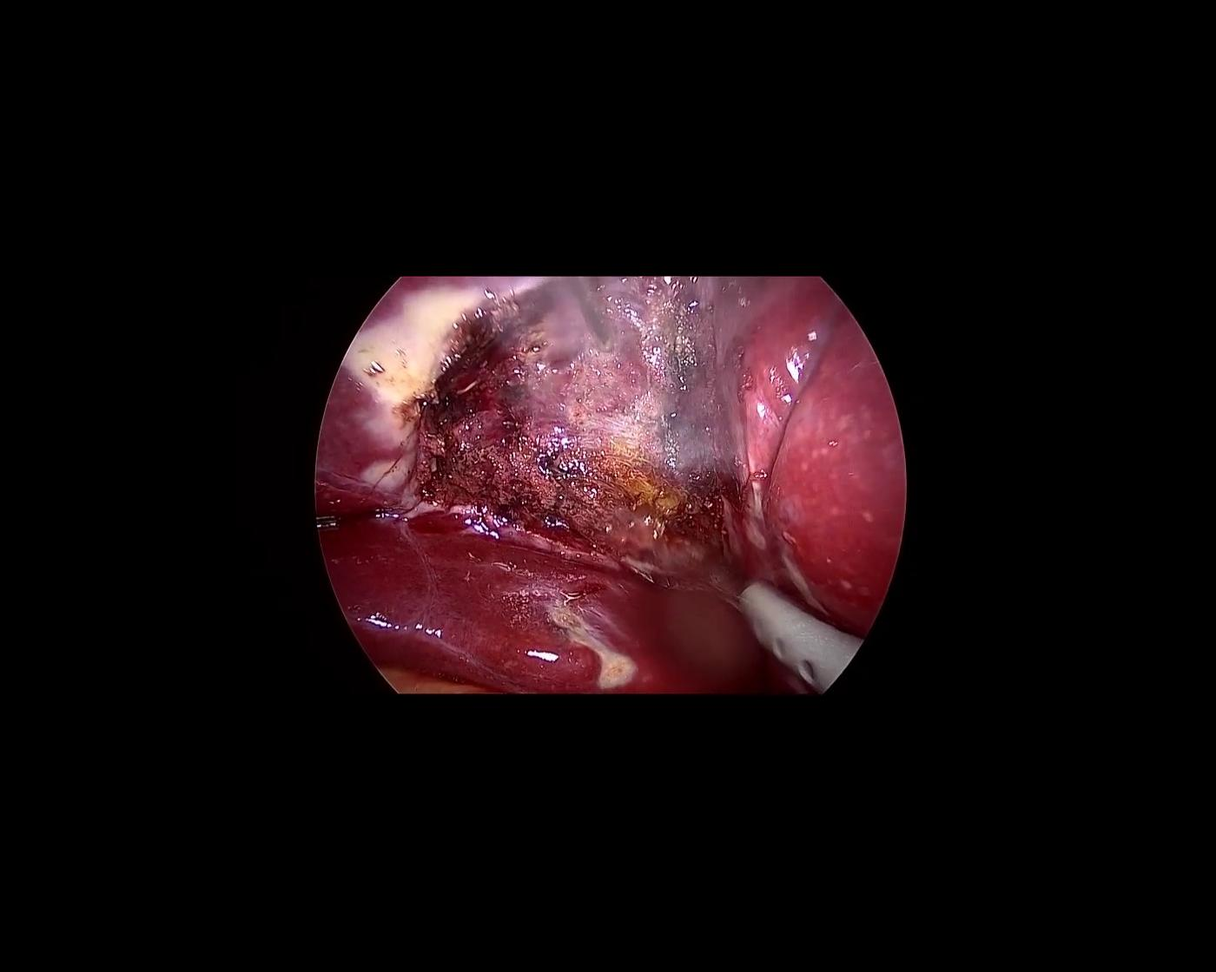Liver: (660, 234, 955, 665), (295, 497, 781, 739)
Suction: (723, 567, 864, 694)
